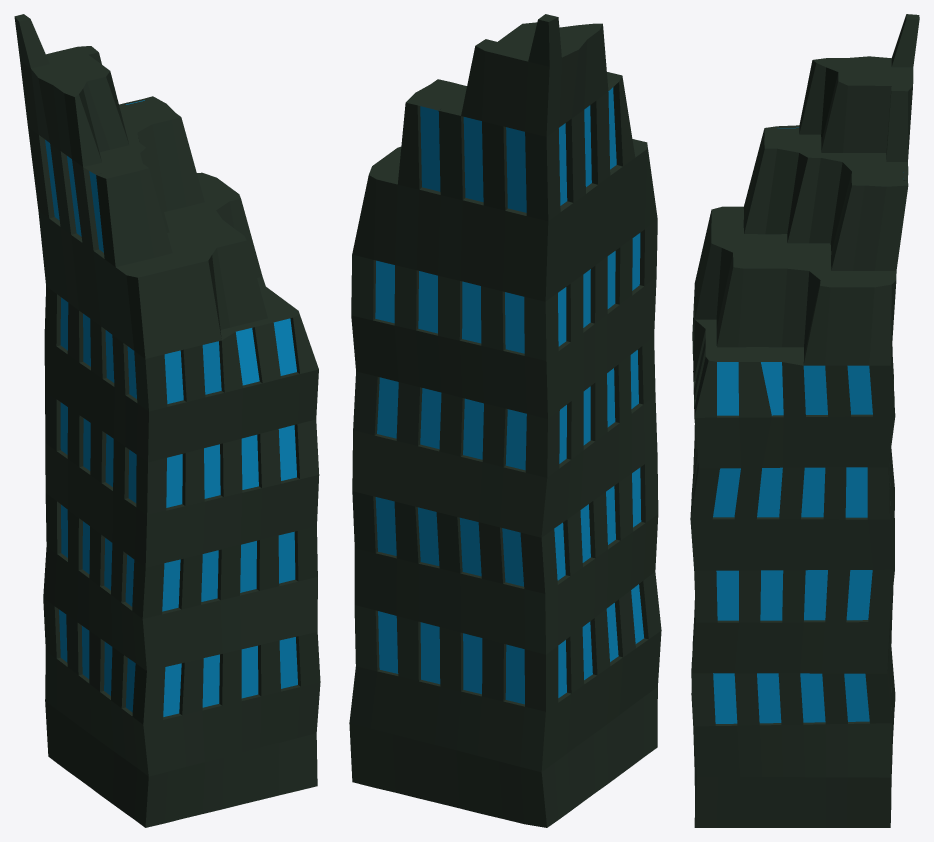
The model's file is Skyscraper.obj.
3 renders of one model, left to right at view 1: azimuth 30°, elevation 25°; view 2: azimuth 150°, elevation 25°; view 3: azimuth 270°, elevation 25°, orthographic. The views are drawn at different scales.
Visible parts, largest first — view 1: Cube_SkyscraperWalls, Cube_SkyscraperWindows; view 2: Cube_SkyscraperWalls, Cube_SkyscraperWindows; view 3: Cube_SkyscraperWalls, Cube_SkyscraperWindows.
Boxes of the visible parts, <box> form: Cube_SkyscraperWalls: <box>14,14,320,827</box>; Cube_SkyscraperWindows: <box>45,100,297,716</box>; Cube_SkyscraperWalls: <box>349,14,661,827</box>; Cube_SkyscraperWindows: <box>375,87,643,704</box>; Cube_SkyscraperWalls: <box>690,14,919,827</box>; Cube_SkyscraperWindows: <box>713,127,903,723</box>.
Bounding box in the file's own units: 11.25 × 40.68 × 11.7.
